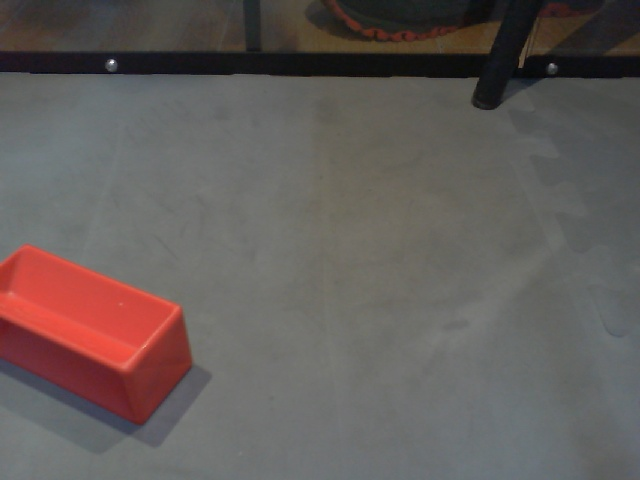RedSample: (1, 244, 195, 426)
